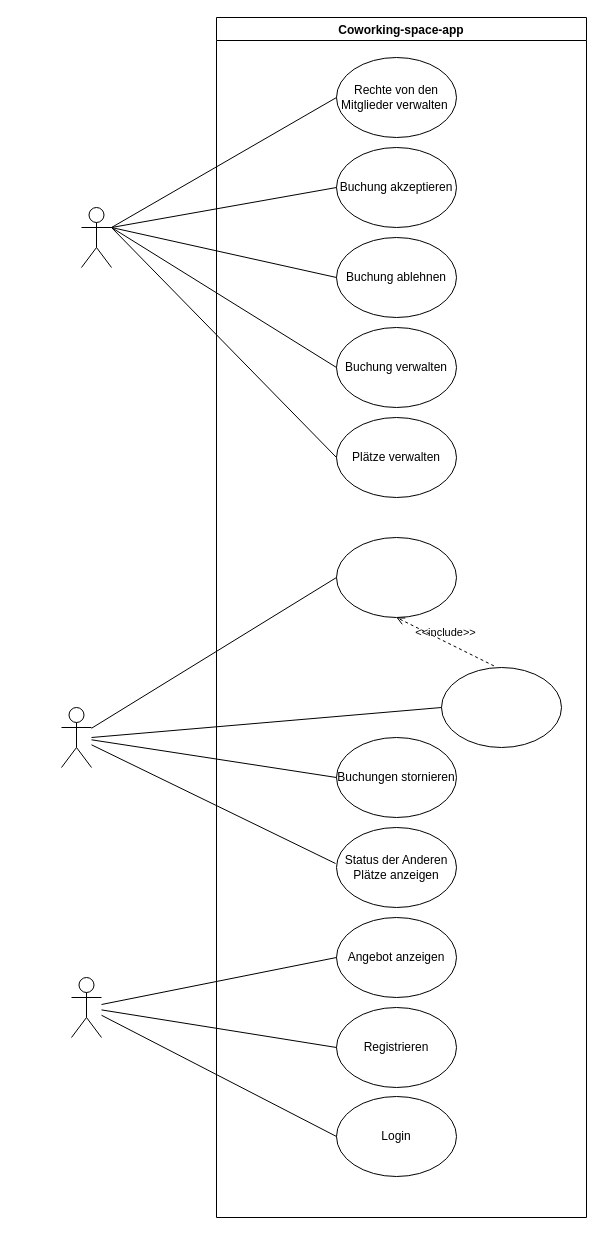
This 604x1235 diagram has some shape labels left out. Here are the shapes that lost their labels. From the top down, the centre of each, then its label:
point (96, 237): Admin (Alex Smolders)
point (396, 577): Buchnung betätigen
point (501, 707): Status meiner Buchungen anzeigen
point (76, 737): Mitglied (Yves Huber)
point (86, 1007): Besucher
